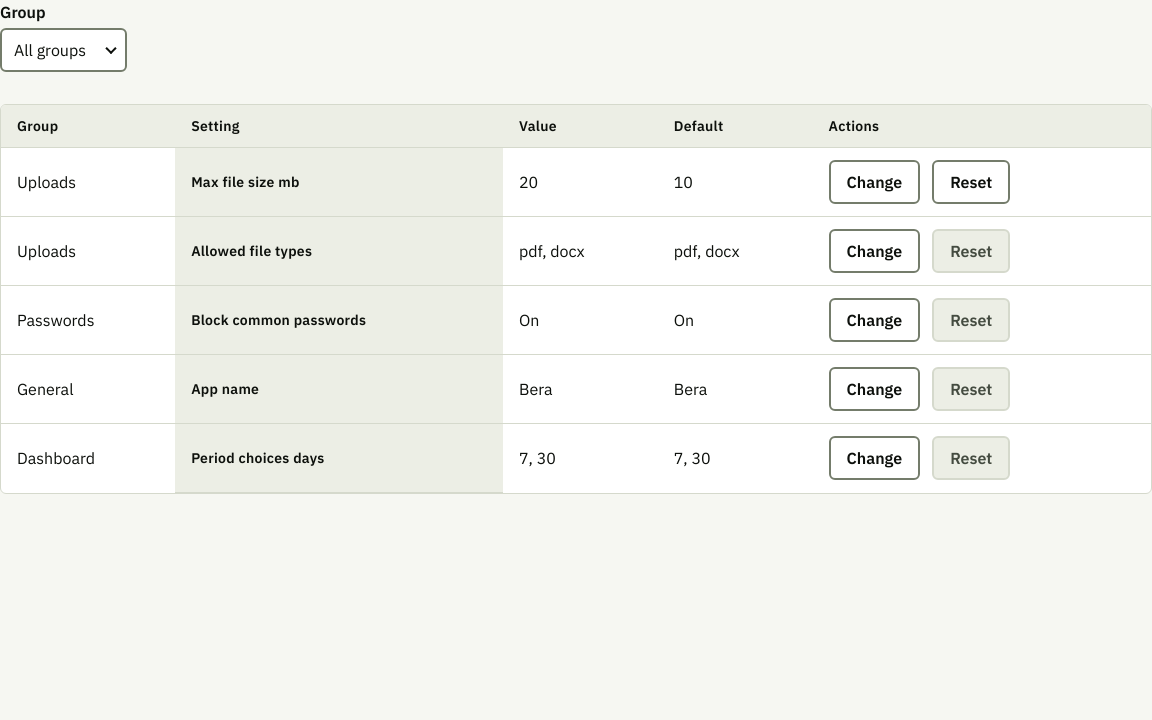
Test case: Settings table › brings the popup back with the server's message when a value is refused
expect the element named "Settings" is shown: met, box [0,104,1151,494]
Click the button "Change" in the row of "Max file size mb" at (874, 182), box [828,160,920,204]
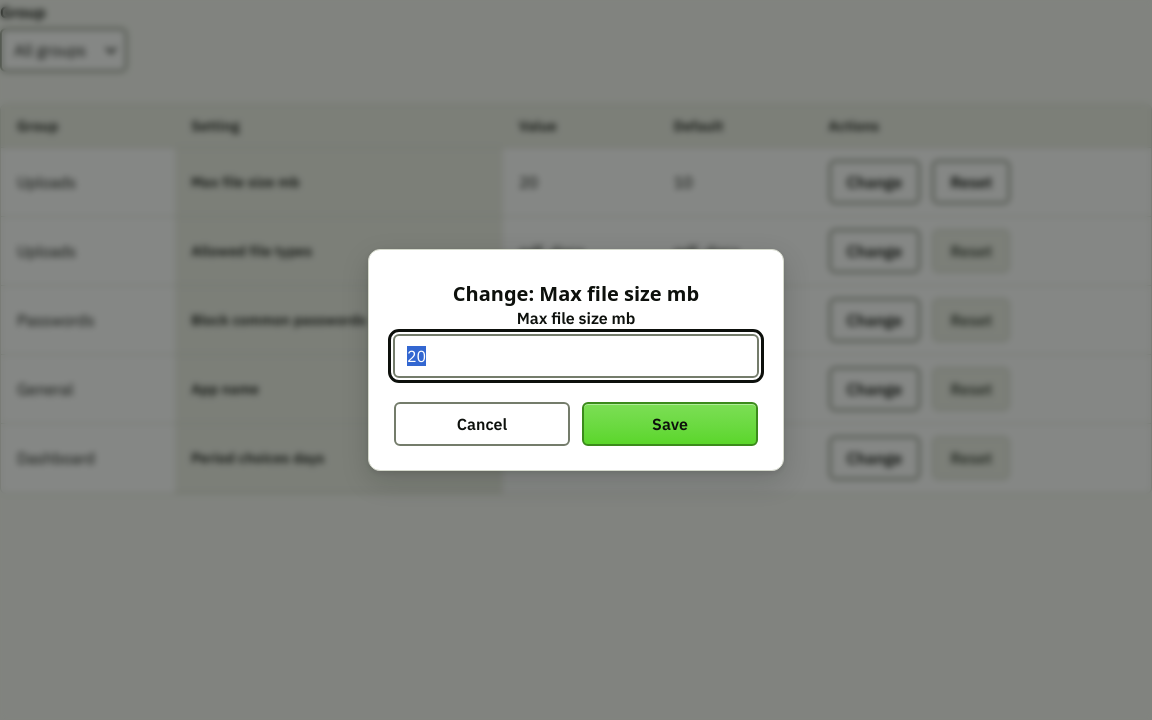
Click the button "Save" at (670, 424), box [582,402,758,446]
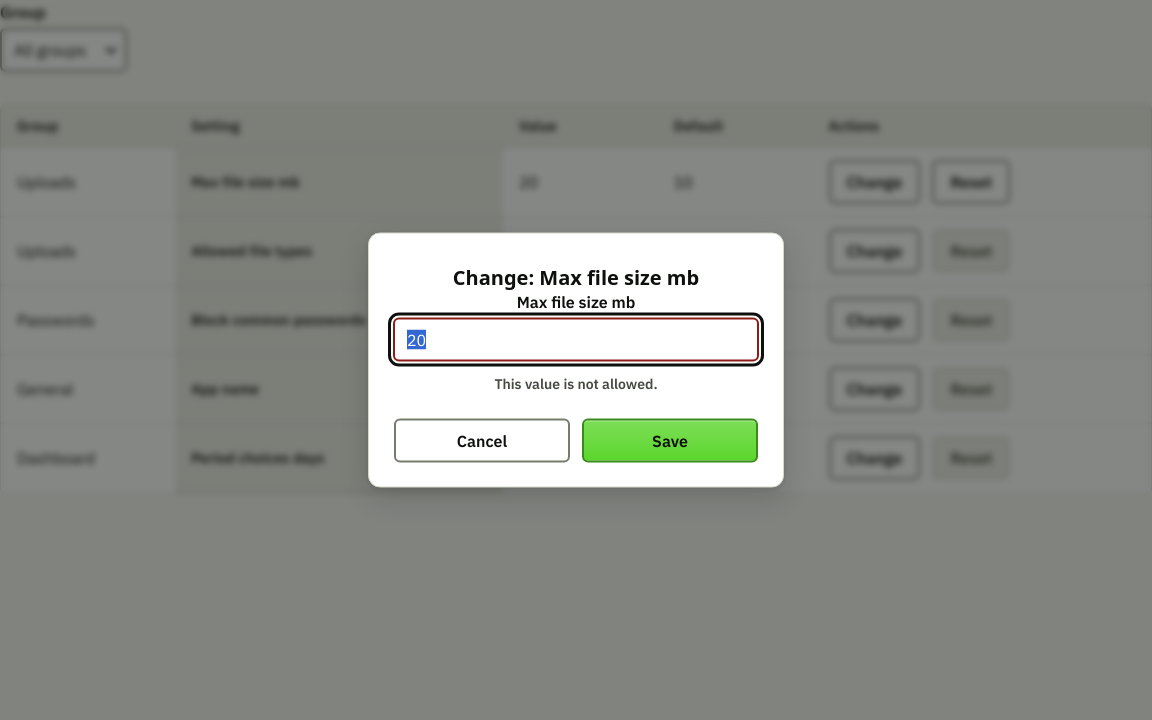
expect the text "This value is not allowed." is shown: met, box [493,374,658,392]
expect the field labelled "Max file size mb" holds "20": met, box [393,318,759,362]
